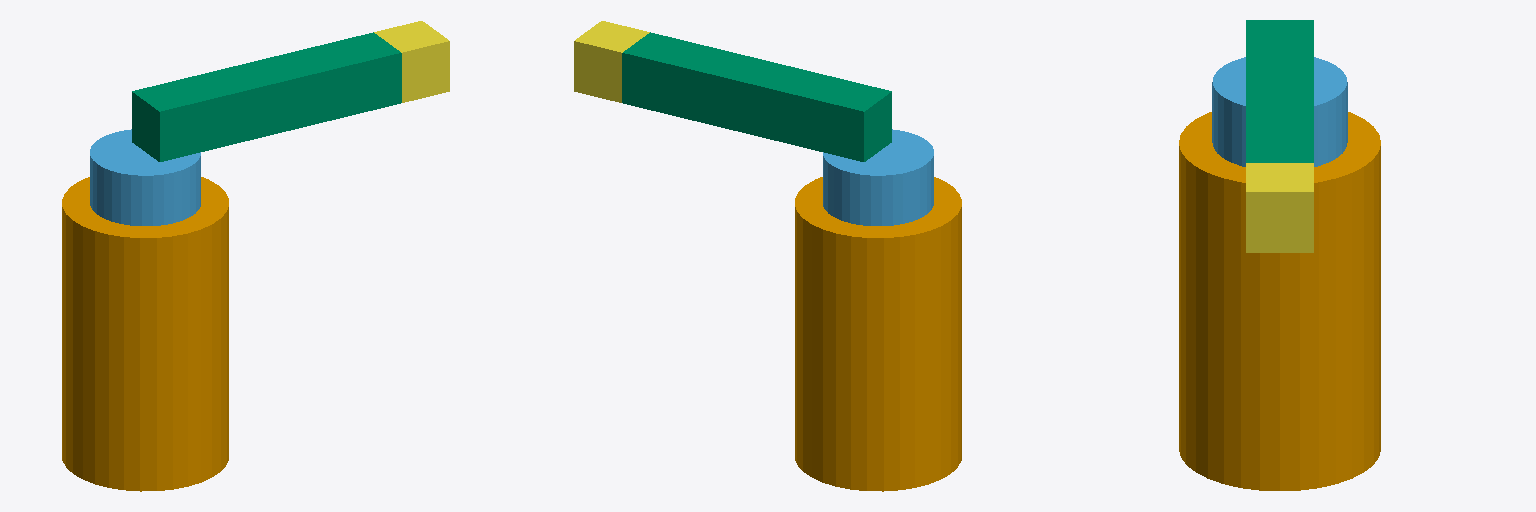
The robot description file, URDF, robot "pr_robot":
<?xml version="1.0" encoding="utf-8" ?>
<!-- =================================================================================== -->
<!-- |    This document was autogenerated by xacro from [local-path]/GitHub/IntroToRobotics/myrobotws/src/my_pr_robot/urdf/pr_robot_links_and_joints.xacro | -->
<!-- |    EDITING THIS FILE BY HAND IS NOT RECOMMENDED                                 | -->
<!-- =================================================================================== -->
<robot name="pr_robot">
    <!-- END - Include -->
    <link name="base_link">
        <collision>
            <origin rpy="0 0 0" xyz="0 0 2.5" />
            <geometry>
                <cylinder length="5" radius="1.5" />
            </geometry>
        </collision>
        <visual>
            <origin rpy="0 0 0" xyz="0 0 2.5" />
            <geometry>
                <cylinder length="5" radius="1.5" />
            </geometry>
        </visual>
        <material name="red">
            <color rgba="0.8 0.0 0.0 1.0" />
        </material>
        
<inertial>
            <mass value="0.1" />
            <inertia ixx="0.03" iyy="0.03" izz="0.03" ixy="0.0" ixz="0.0" iyz="0.0" />
        </inertial>

    </link>
    <joint name="joint1_base_link_to_link1" type="prismatic">
        <origin rpy="0 0 0" xyz="0 0 1" />
        <parent link="base_link" />
        <child link="link1" />
        <axis xyz="0 0 1" />
        <limit effort="1000" lower="0" upper="4.0" velocity="0.5" />
    </joint>
    <link name="link1">
        <collision>
            <origin rpy="0 0 0" xyz="0 0 2.5" />
            <geometry>
                <cylinder length="5" radius="1" />
            </geometry>
        </collision>
        <visual>
            <origin rpy="0 0 0" xyz="0 0 2.5" />
            <geometry>
                <cylinder length="5" radius="1" />
            </geometry>
        </visual>
        <material name="green">
            <color rgba="0.0 0.8 0.0 1.0" />
        </material>
        
<inertial>
            <mass value="0.1" />
            <inertia ixx="0.03" iyy="0.03" izz="0.03" ixy="0.0" ixz="0.0" iyz="0.0" />
        </inertial>

    </link>
    <joint name="joint2_link1_to_link2" type="revolute">
        <origin rpy="0 0 0" xyz="0 0 0" />
        <parent link="link1" />
        <child link="link2" />
        <axis xyz="0 0 1" />
        <limit effort="1000" lower="-3.14" upper="3.14" velocity="1.0" />
    </joint>
    <link name="link2">
        <visual>
            <origin rpy="0 0 0" xyz="2.5 0 5.5" />
            <geometry>
                <box size="5 1 1" />
            </geometry>
        </visual>
        <collision>
            <origin rpy="0 0 0" xyz="2.5 0 5.5" />
            <geometry>
                <box size="5 1 1" />
            </geometry>
        </collision>
        <material name="red">
            <color rgba="0.8 0.0 0.0 1.0" />
        </material>
        
<inertial>
            <mass value="0.1" />
            <inertia ixx="0.03" iyy="0.03" izz="0.03" ixy="0.0" ixz="0.0" iyz="0.0" />
        </inertial>

    </link>
    <joint name="joint3_link2_to_hand" type="fixed">
        <origin rpy="0 0 0" xyz="0 0 0" />
        <parent link="link2" />
        <child link="hand" />
        <axis xyz="0 0 0" />
        <limit effort="0" lower="0" upper="0" velocity="0" />
    </joint>
    <link name="hand">
        <visual>
            <origin rpy="0 0 0" xyz="5.5 0 5.5" />
            <geometry>
                <box size="1 1 1" />
            </geometry>
        </visual>
        <collision>
            <origin rpy="0 0 0" xyz="5.5 0 5.5" />
            <geometry>
                <box size="1 1 1" />
            </geometry>
        </collision>
        <material name="green">
            <color rgba="0.0 0.8 0.0 1.0" />
        </material>
        
<inertial>
            <mass value="0.1" />
            <inertia ixx="0.03" iyy="0.03" izz="0.03" ixy="0.0" ixz="0.0" iyz="0.0" />
        </inertial>

    </link>
    
<transmission name="trans_joint1_base_link_to_link1">
        <type>transmission_interface/SimpleTransmission</type>
        <joint name="joint1_base_link_to_link1">
            <hardwareInterface>hardware_interface/EffortJointInterface</hardwareInterface>
        </joint>
        <actuator name="joint1_base_link_to_link1_motor">
            <hardwareInterface>hardware_interface/EffortJointInterface</hardwareInterface>
            <mechanicalReduction>1</mechanicalReduction>
        </actuator>
    </transmission>
    <transmission name="trans_joint2_link1_to_link2">
        <type>transmission_interface/SimpleTransmission</type>
        <joint name="joint2_link1_to_link2">
            <hardwareInterface>hardware_interface/EffortJointInterface</hardwareInterface>
        </joint>
        <actuator name="joint2_link1_to_link2_motor">
            <hardwareInterface>hardware_interface/EffortJointInterface</hardwareInterface>
            <mechanicalReduction>1</mechanicalReduction>
        </actuator>
    </transmission>
    <gazebo>
        <plugin name="gazebo_ros_control" filename="libgazebo_ros_control.so">
            <robotNamespace>/</robotNamespace>
        </plugin>
    </gazebo>
</robot>

--- What the picture shows (computed from the rendered views, not written in the file) ---
Views: 3 orthographic renders of the robot side by side, from view 1: azimuth 30°, elevation 25°; view 2: azimuth 150°, elevation 25°; view 3: azimuth 270°, elevation 25°.
Robot: pr_robot — 4 links, 3 joints (1 revolute, 1 prismatic, 1 fixed); root link base_link; default pose: all joints at 0.
Links seen in each view (by area): view 1: base_link, link2, link1, hand; view 2: base_link, link2, link1, hand; view 3: base_link, link2, link1, hand.
Link boxes in pixels (left/top/right/bottom): base_link: left=62, top=177, right=228, bottom=491; link2: left=132, top=32, right=401, bottom=161; link1: left=90, top=129, right=200, bottom=225; hand: left=374, top=21, right=449, bottom=102; base_link: left=795, top=177, right=961, bottom=491; link2: left=622, top=32, right=891, bottom=161; link1: left=823, top=129, right=933, bottom=225; hand: left=574, top=21, right=649, bottom=102; base_link: left=1179, top=112, right=1380, bottom=490; link2: left=1246, top=20, right=1313, bottom=162; link1: left=1212, top=57, right=1347, bottom=166; hand: left=1246, top=163, right=1313, bottom=252.
Size in the robot's own frame: 7.5 by 3 by 7 metres.
Geometry: primitives only (box / cylinder / sphere), no mesh files.
